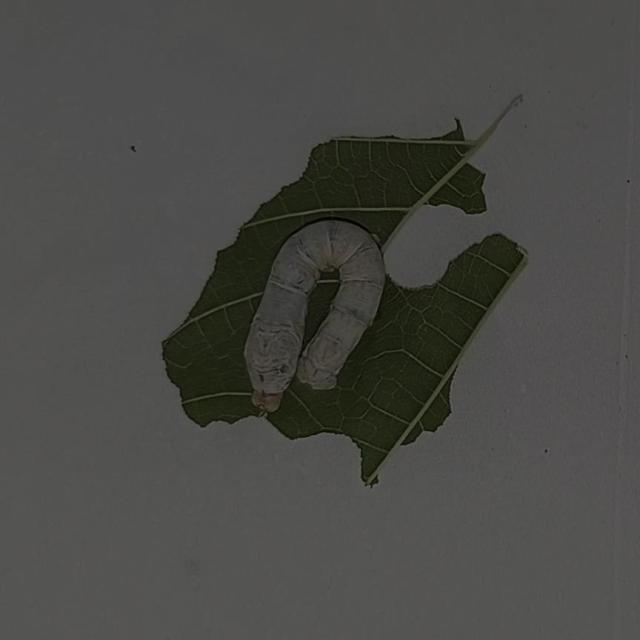Healthy: (230, 188, 430, 437)
